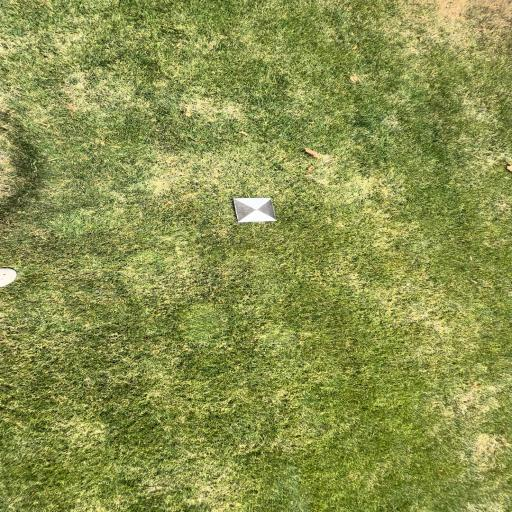target: (234, 198, 276, 223)
